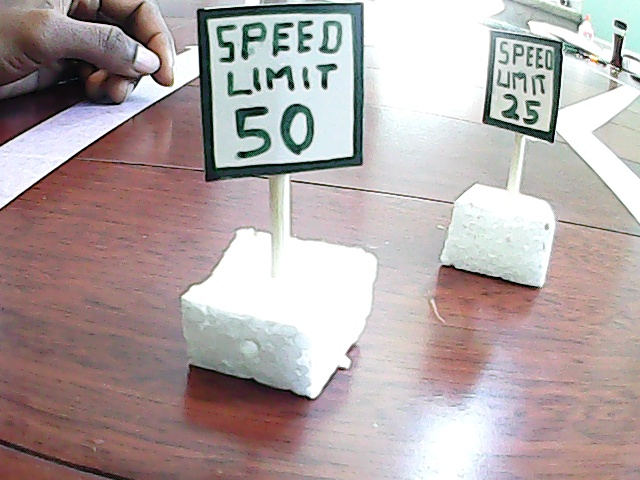speed_25: (466, 35, 565, 290)
speed_50: (182, 1, 391, 395)
